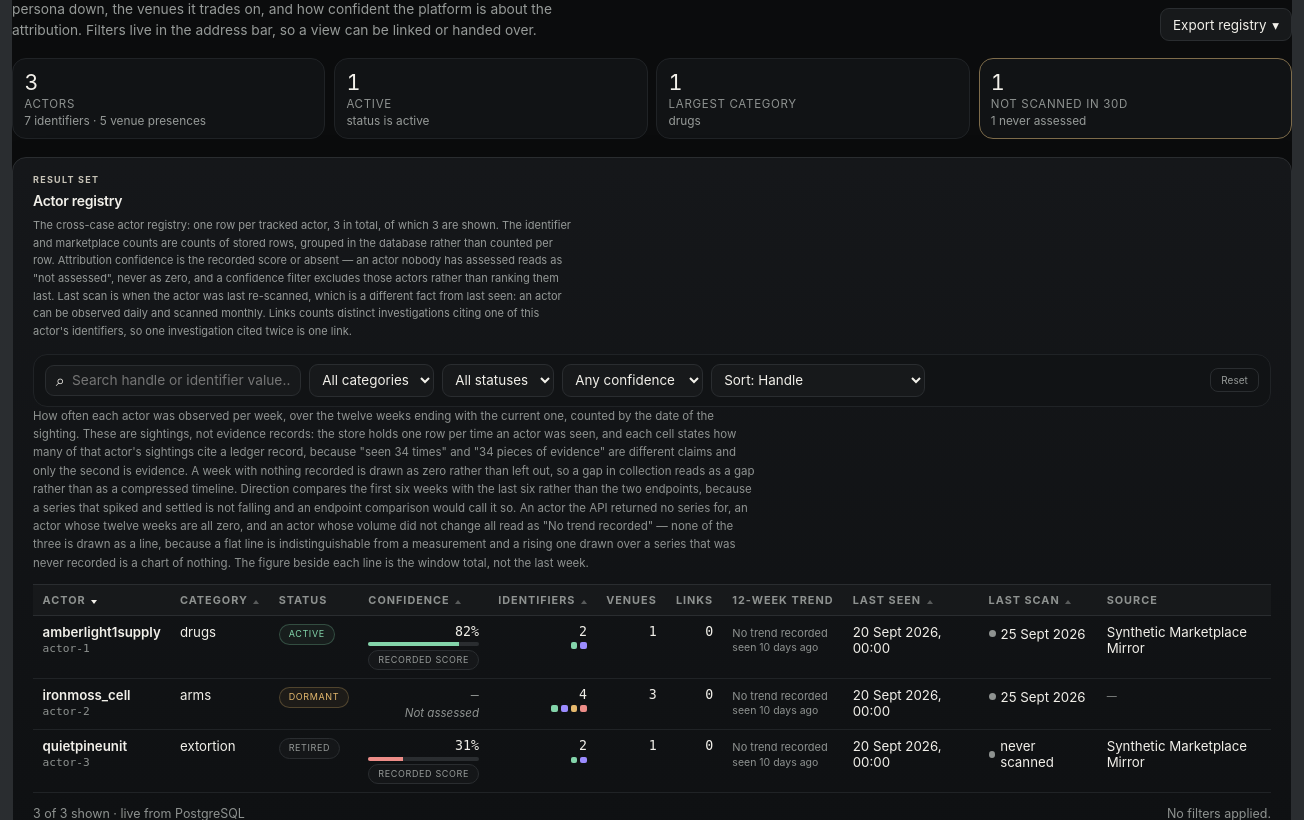
Test: ActorsPage › selects a row into the inspector without leaving the register
Expected: the table named "Actor registry" is shown, top-left (33, 585), bottom-right (1271, 793)
Click the row "amberlight1supply" at (652, 647), box top-left (33, 616), bottom-right (1271, 679)
(page scrolled)
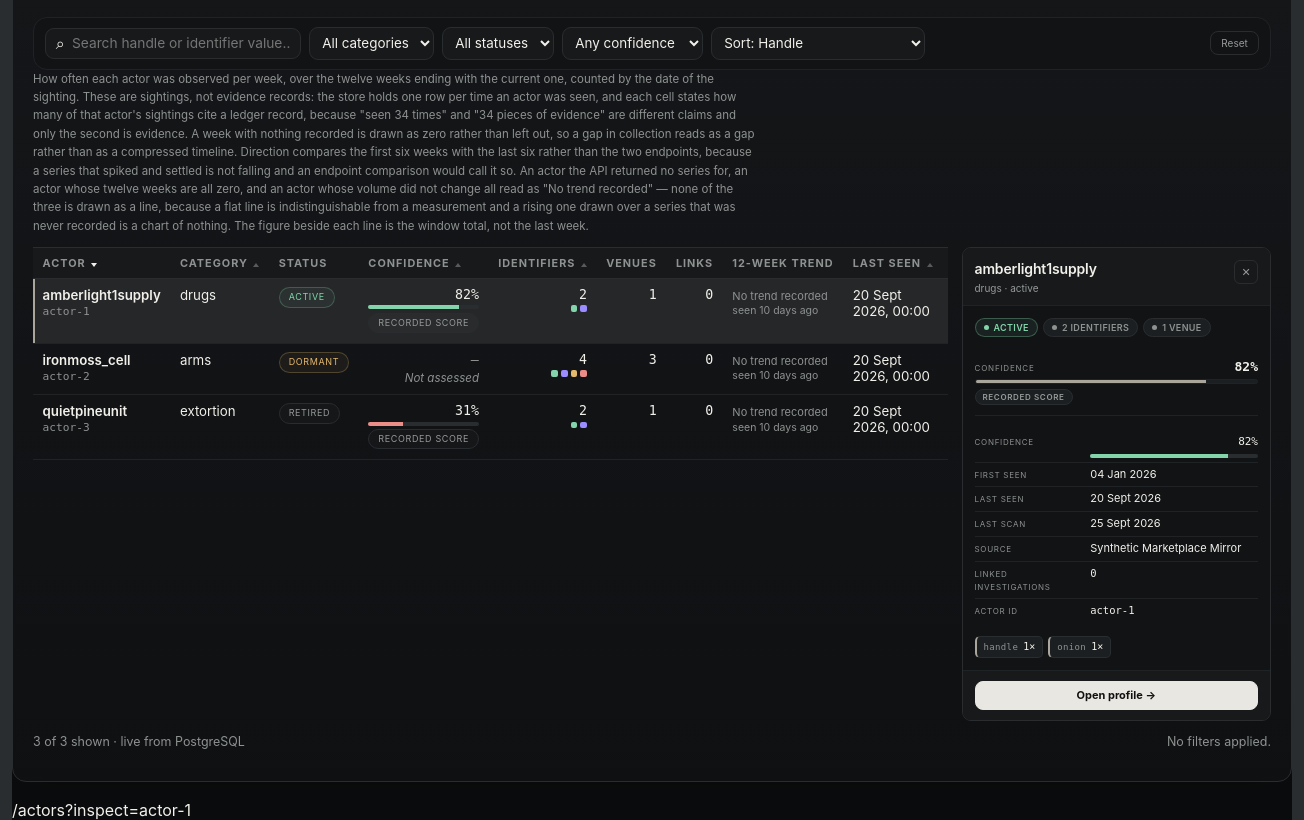
Expected: the table named "Actor registry" is shown, top-left (33, 248), bottom-right (948, 460)
Now the text with test id "location" shows "inspect=actor-1", box top-left (12, 800), bottom-right (191, 819)
Now the element named "amberlight1supply" is shown, box top-left (962, 247), bottom-right (1271, 721)
